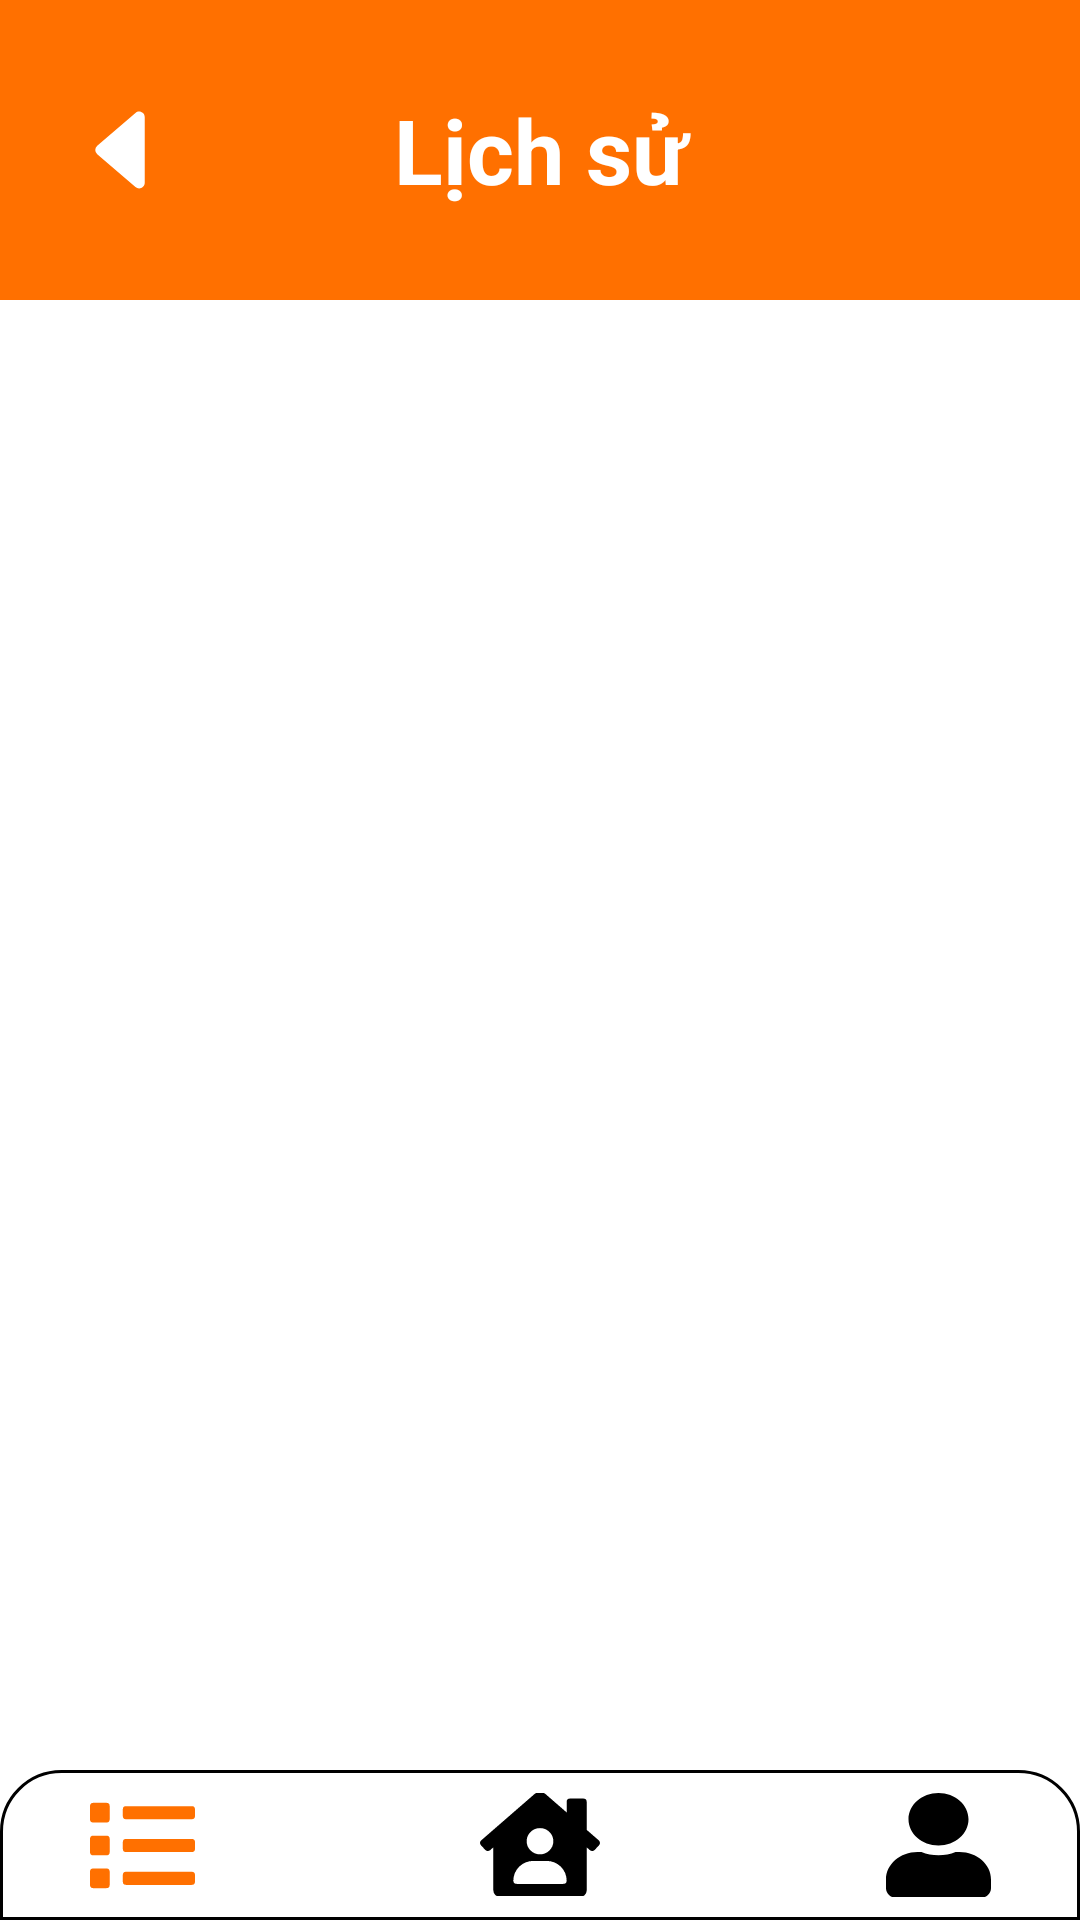

Icons on this 1080 × 1920 Android screen, each with the point to tap as (x=x, y=y):
location go back: (x=120, y=150)
navigation bar house user: (x=540, y=1844)
navigation bar list: (x=142, y=1845)
navigation bar user: (x=938, y=1845)
